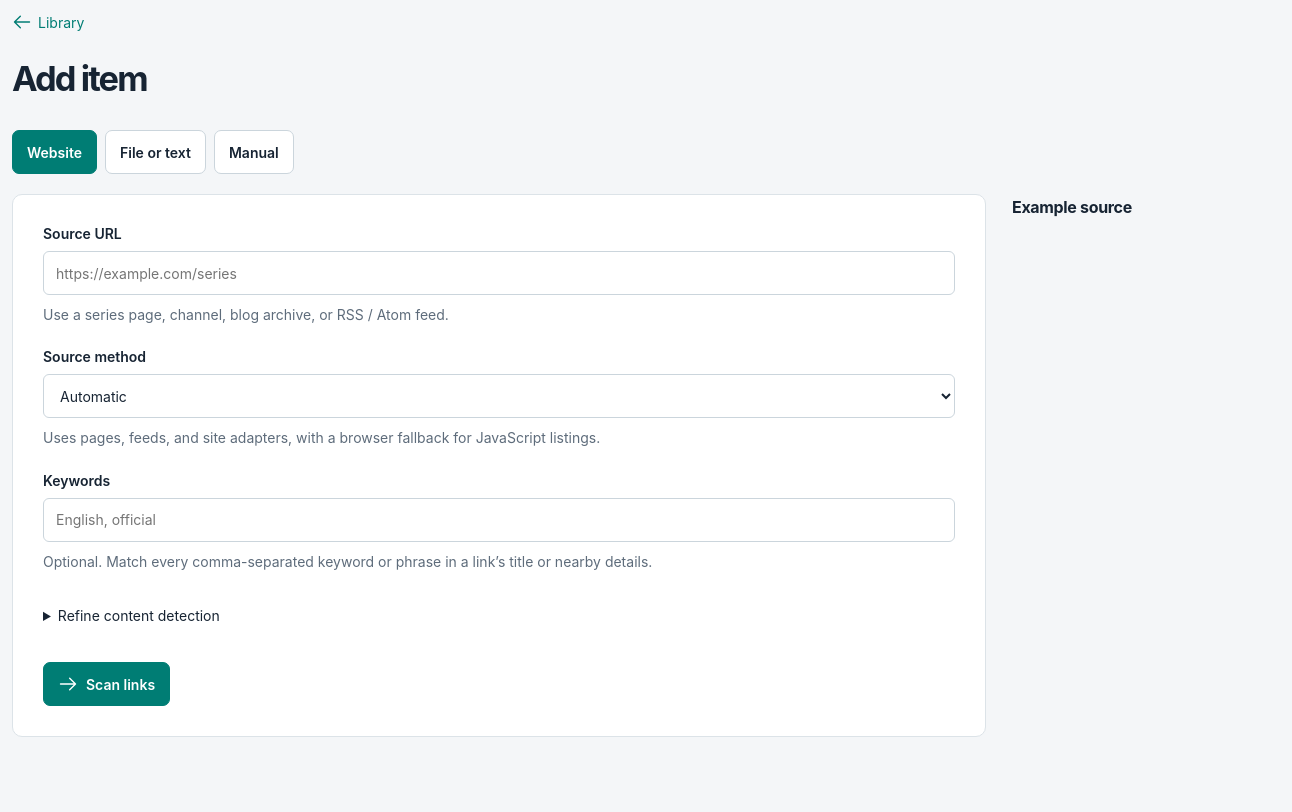
Scenario: missing API credentials keep the explicit choice and show a dismissible error
In the field labelled "Source URL": x=499, y=273 [43,251,955,295], type "https://youtube.com/@example"
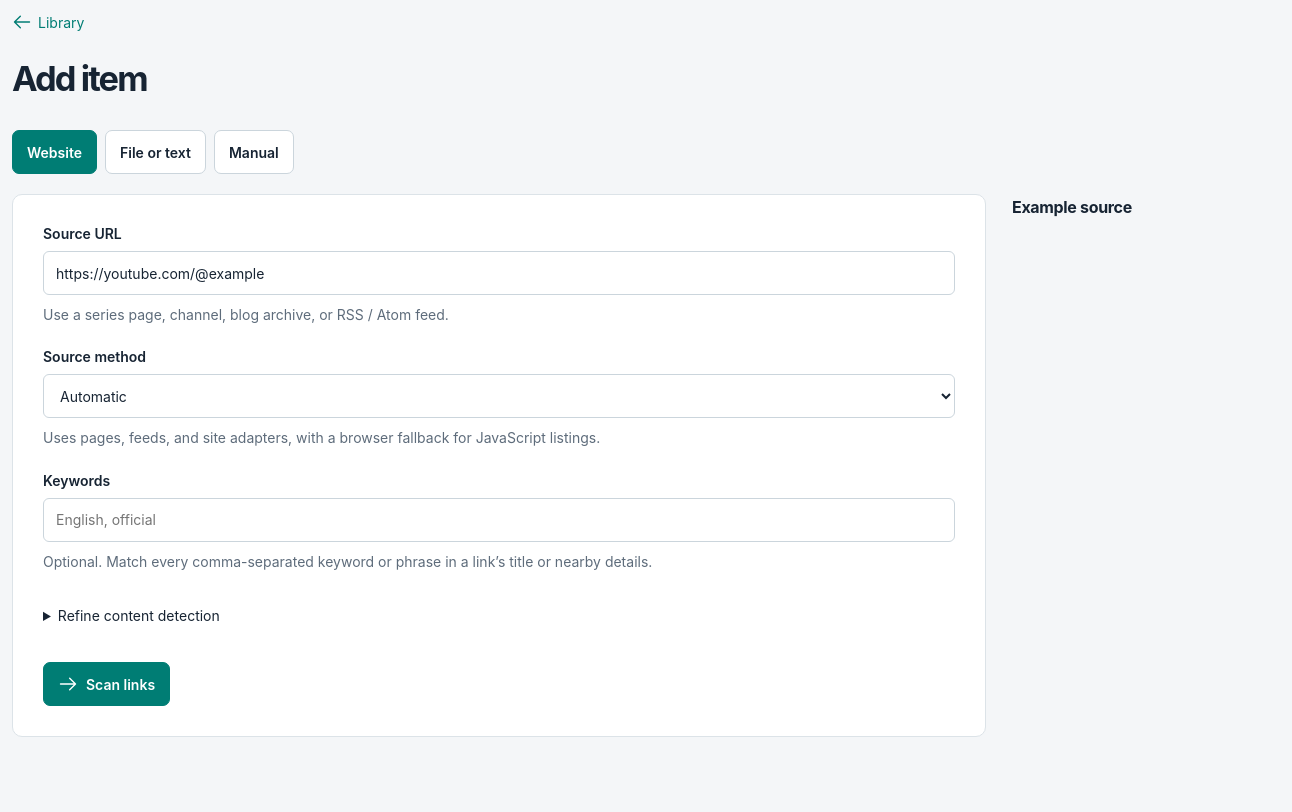
Select "YouTube API" in the dropdown labelled "Source method": x=499, y=396 [43,374,955,418]
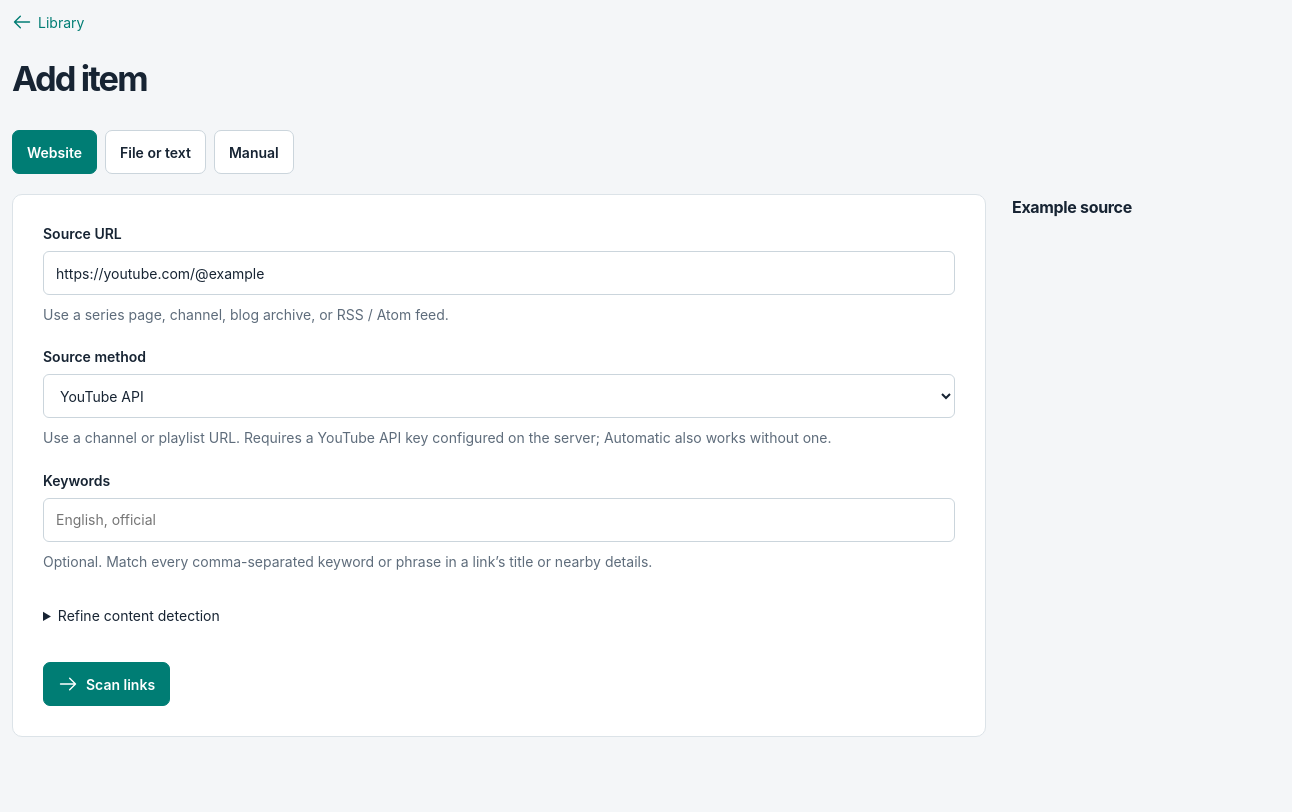
Click the button "Scan links": x=107, y=684 [43,662,170,706]
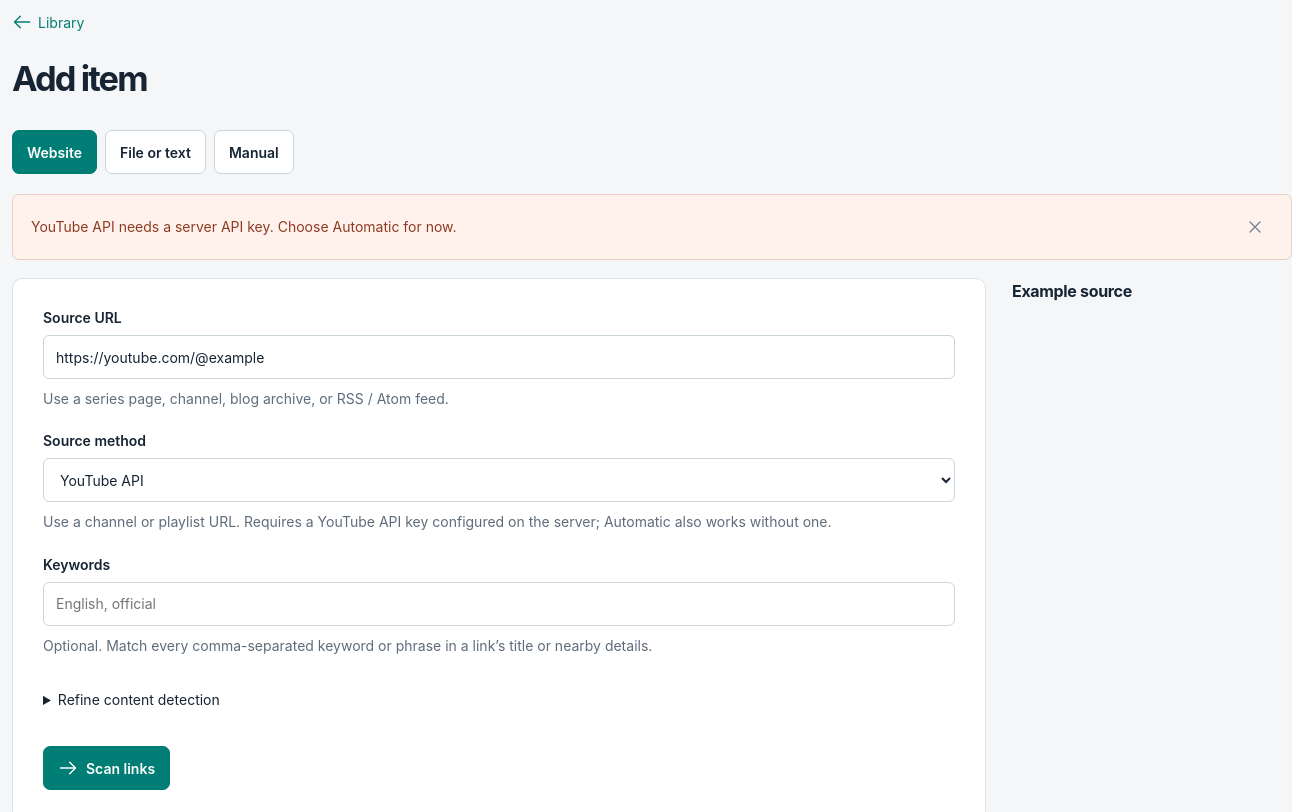
Now the message shows "needs a server API key", box [31,218,457,235]
Click the button named "Dismiss": x=1255, y=227 [1237,209,1273,245]
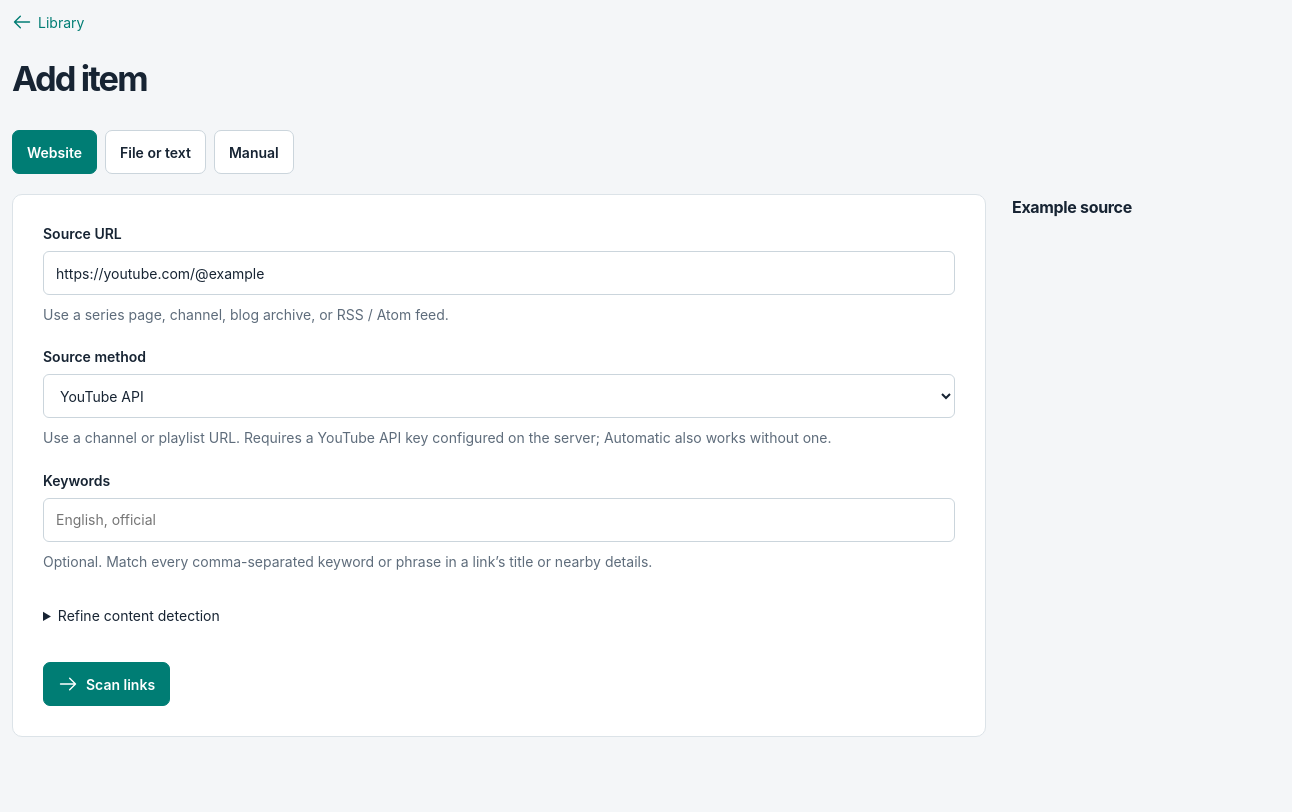
Now the message "YouTube API needs a server API key. Choose Automatic for now." is gone
